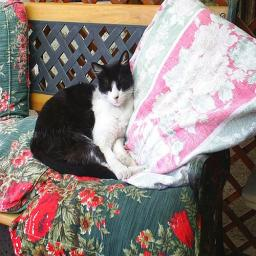catnose: (110, 92, 122, 102)
